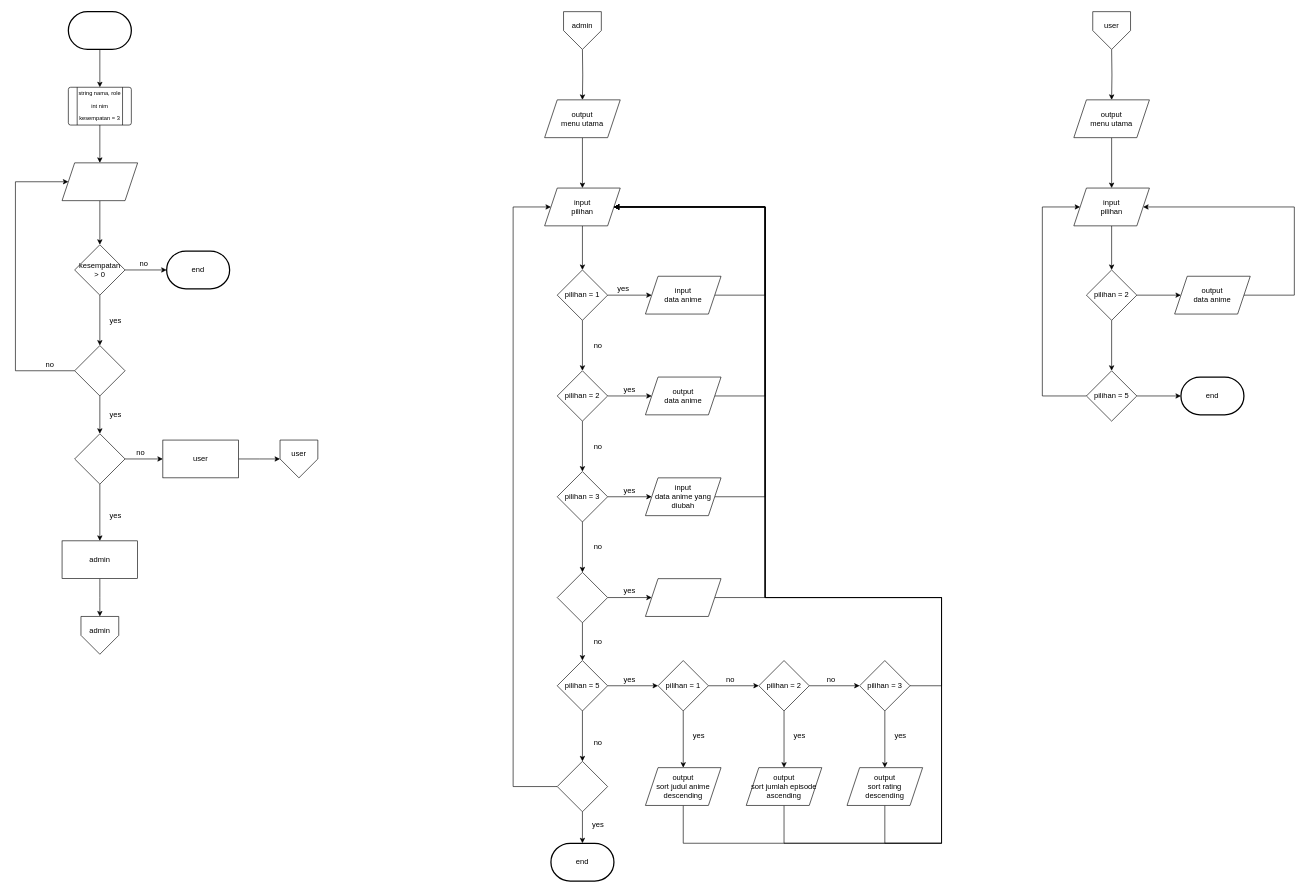
This 1310x892 diagram has some shape labels left out. The box of each missing label's shape, as (x1, y1, x2, y2) in pixels:
input benar: (74, 345, 125, 396)
input data yang ingin dihapus: (645, 578, 721, 616)
input nama, nim: (61, 162, 138, 201)
nim = nim praktikan: (74, 433, 125, 484)
pilihan = 4: (557, 572, 608, 623)
pilihan = 6: (557, 761, 608, 812)
start: (67, 11, 132, 50)
